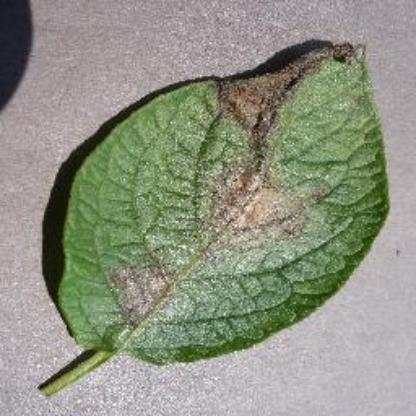Late-Blight: (40, 34, 392, 396)
